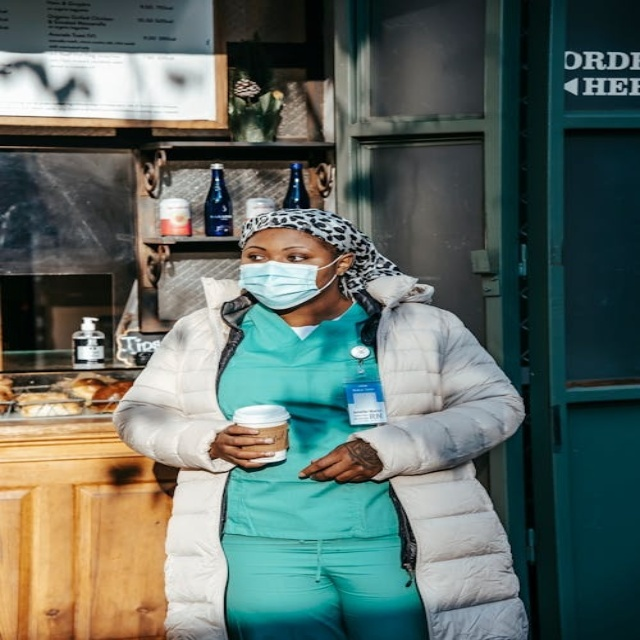Mascara: (237, 255, 340, 309)
Sin_gafas: (237, 242, 325, 262)
Sin_guantes: (300, 436, 384, 484), (209, 422, 285, 468)
